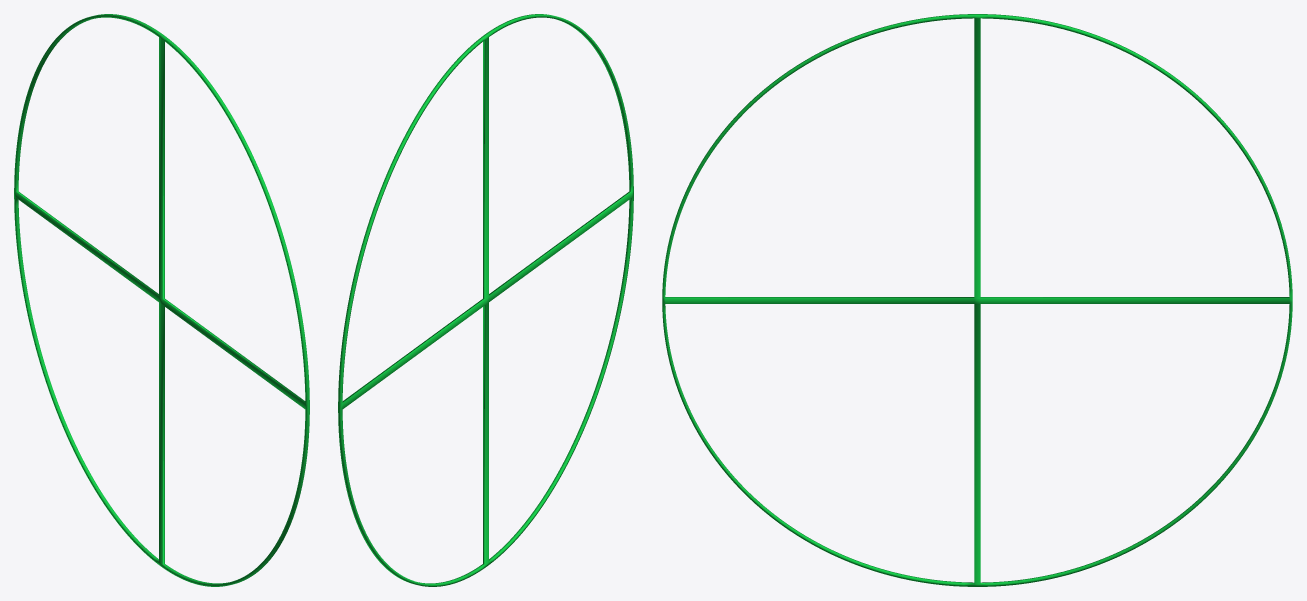
File: TargetGreen.glb
3 renders of one model, left to right at view 1: azimuth 30°, elevation 25°; view 2: azimuth 150°, elevation 25°; view 3: azimuth 270°, elevation 25°, orthographic. The views are drawn at different scales.
Visible parts, largest first — view 1: node_id7; view 2: node_id7; view 3: node_id7.
Boxes of the visible parts, bbox=[...] form: node_id7: bbox=[14, 14, 309, 586]; node_id7: bbox=[338, 14, 633, 586]; node_id7: bbox=[662, 14, 1292, 586].
Bounding box in the file's own units: 0.00307 × 0.512 × 0.512.
Materials: 1 (1 with a texture image).
